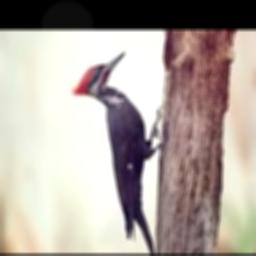Woodpecker: (72, 51, 164, 254)
